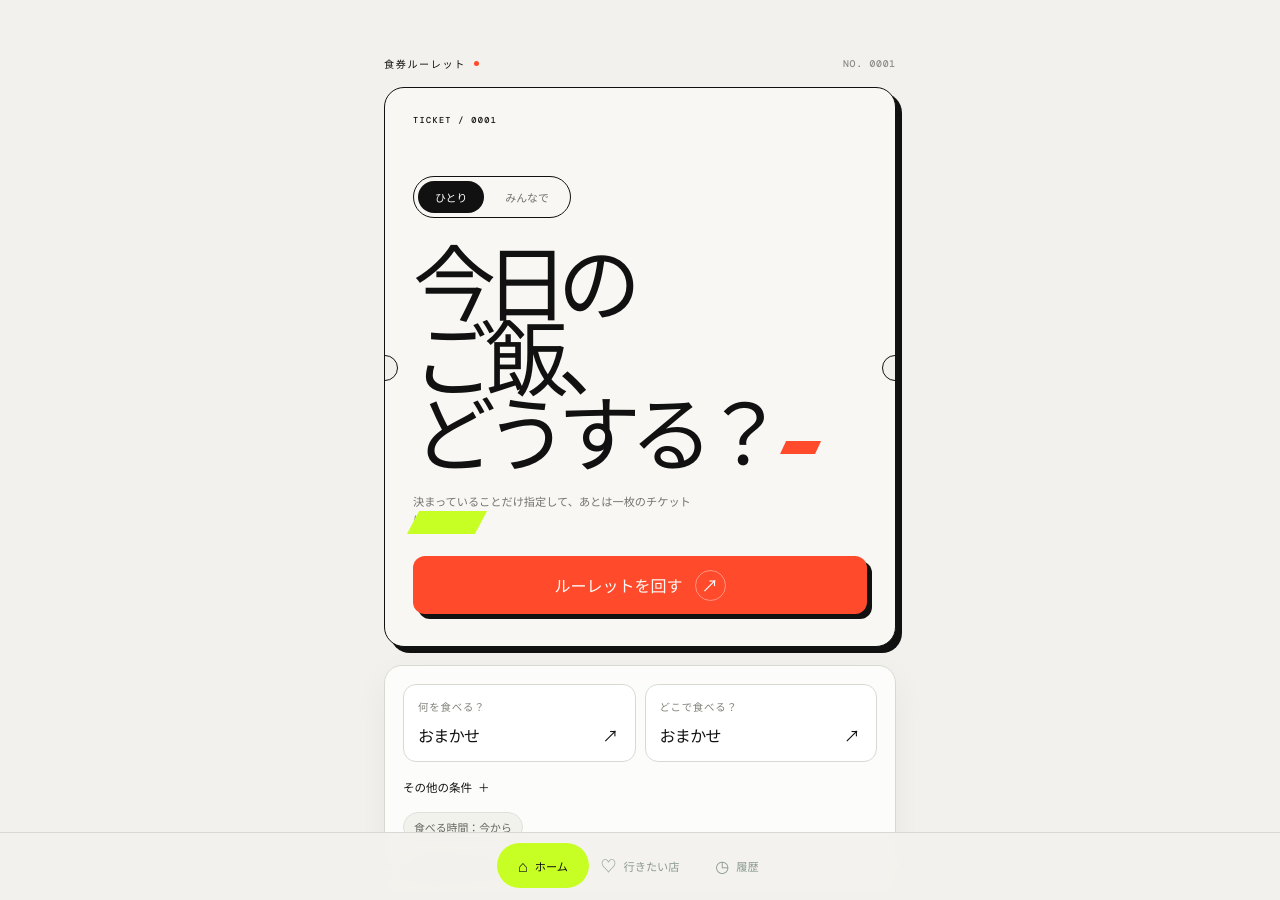
Test: meal roulette user flows › switches group mode to store roulette and hides solo food controls
The image size is (1280, 900).
Click the button "みんなで" at [527, 197], box [488,181,566,213]
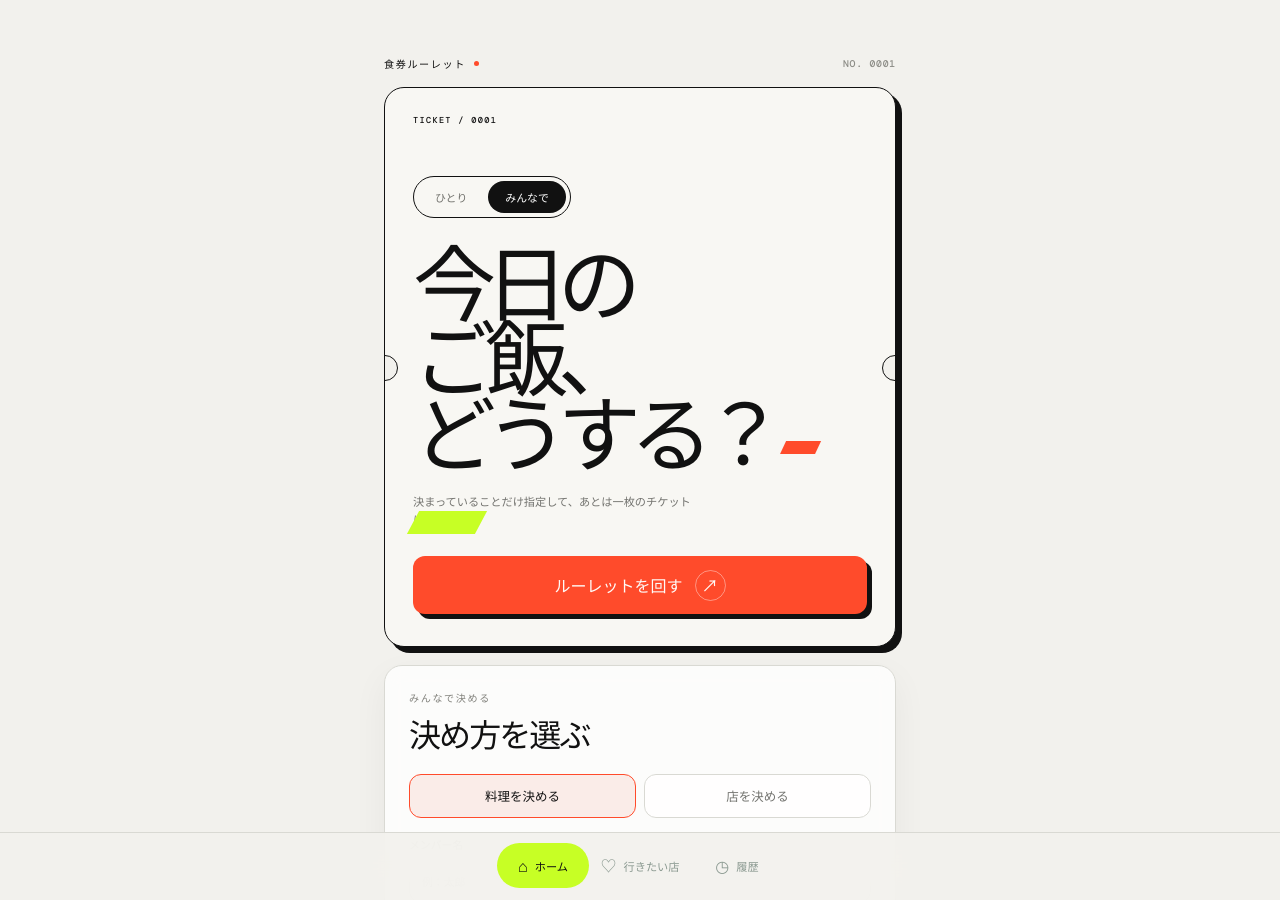
expect the button "何を食べる？" is gone: met
Click the button "店を決める" at [758, 796], box [644,774,871,818]
(page scrolled)
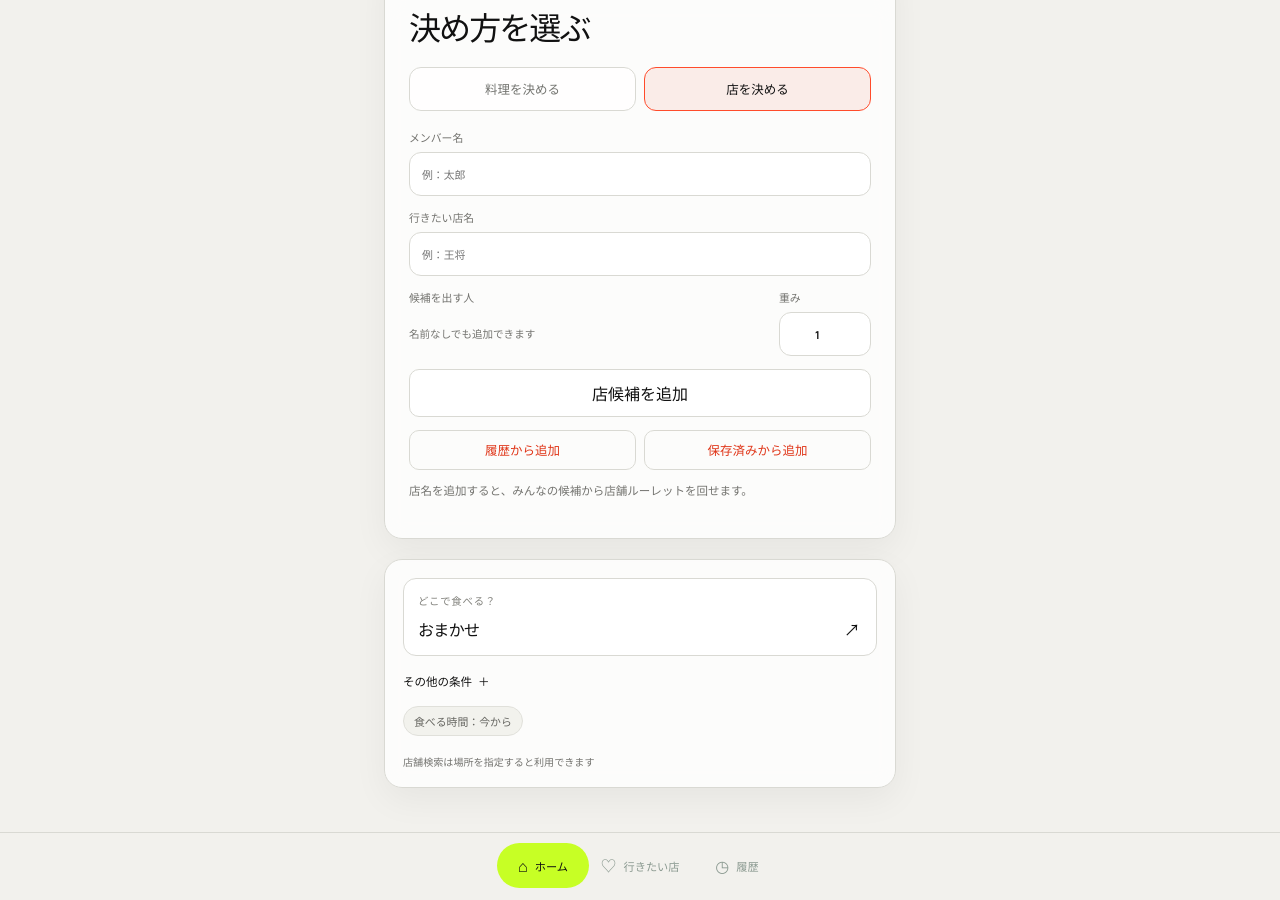
expect the field labelled "行きたい店名" is shown: met, box [409,232,871,276]
expect the button "履歴から追加" is shown: met, box [409,430,636,470]
expect the button "保存済みから追加" is shown: met, box [644,430,871,470]
